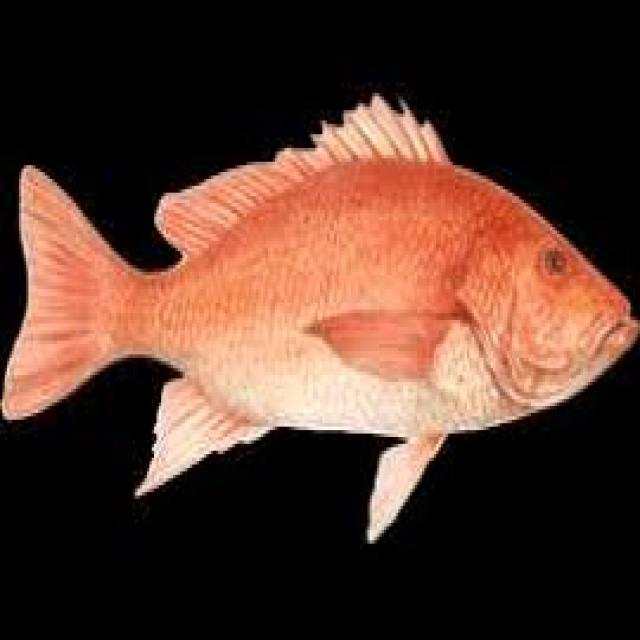northern-red-snapper: (5, 65, 640, 542)
